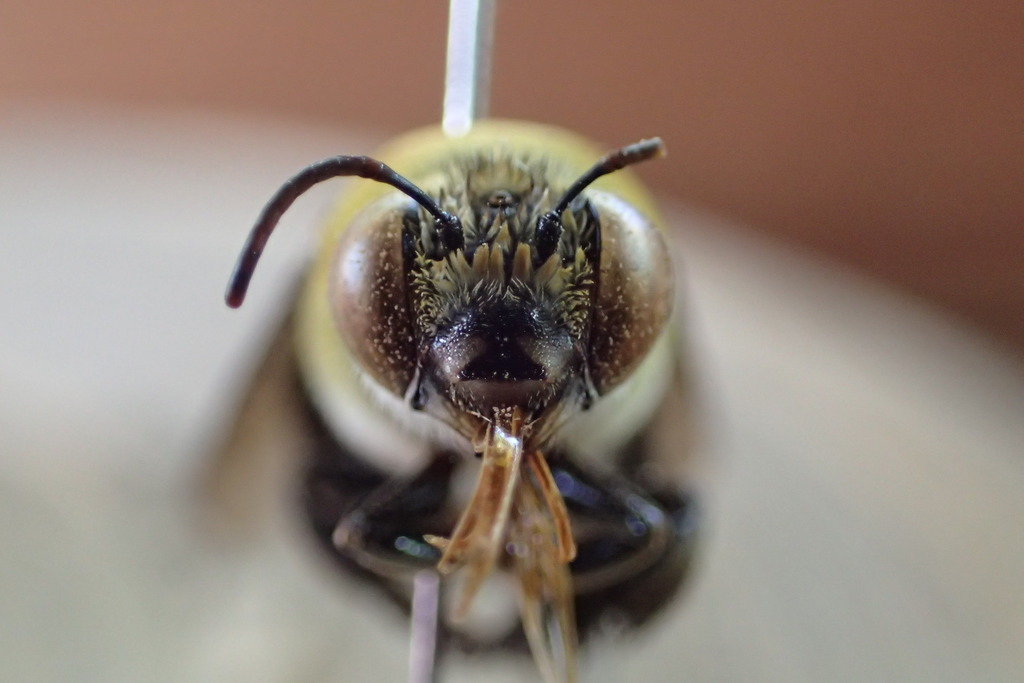not_bumblebee: (222, 115, 715, 683)
